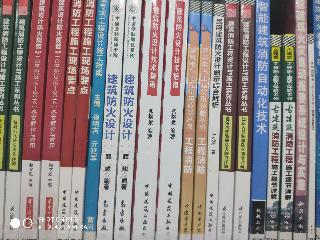book-spine: (132, 0, 166, 240), (157, 0, 189, 240), (20, 1, 50, 239), (40, 0, 69, 239), (97, 1, 125, 239), (114, 0, 141, 240), (70, 1, 96, 240), (58, 0, 83, 240), (5, 1, 30, 239), (84, 1, 109, 239), (218, 0, 239, 240), (179, 1, 200, 240), (250, 1, 270, 240), (234, 1, 254, 239), (205, 5, 224, 239), (193, 2, 211, 239), (0, 0, 15, 237), (266, 35, 283, 239), (280, 35, 294, 239), (295, 1, 305, 239), (309, 35, 314, 239)
